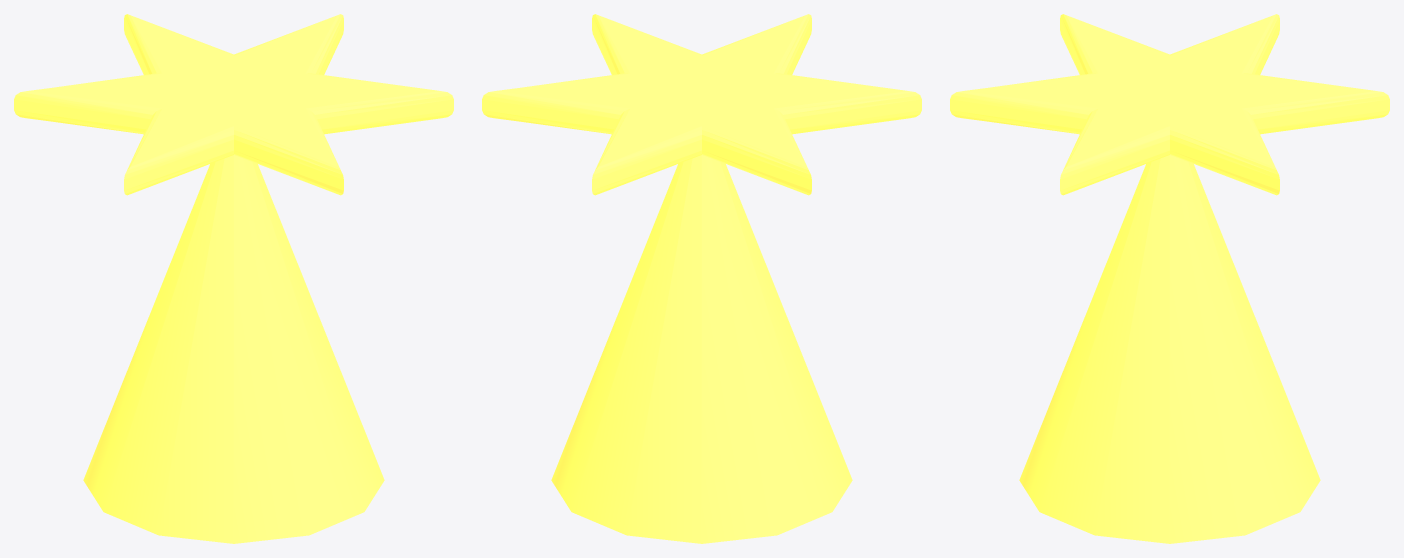
File: kid-flash.glb
3 renders of one model, left to right at view 1: azimuth 30°, elevation 25°; view 2: azimuth 150°, elevation 25°; view 3: azimuth 270°, elevation 25°, orthographic.
Parts seen in each view (by area): view 1: kid-flash; view 2: kid-flash; view 3: kid-flash.
Boxes of the visible parts, box(x1,y1,x2,y2) form: kid-flash: box(14, 14, 453, 543); kid-flash: box(482, 14, 921, 543); kid-flash: box(950, 14, 1389, 543).
Size of the model in its own units: 0.1011 by 0.114 by 0.1168.
